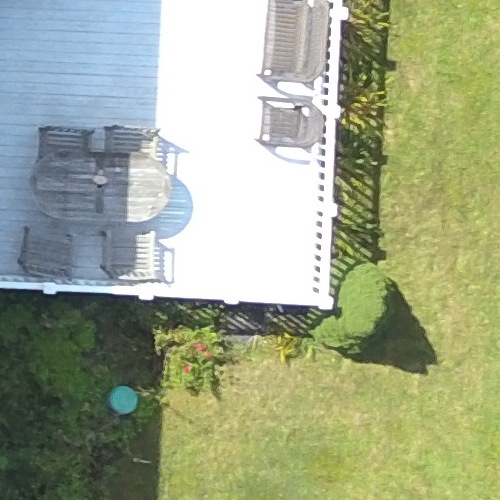porch: (2, 1, 381, 371)
